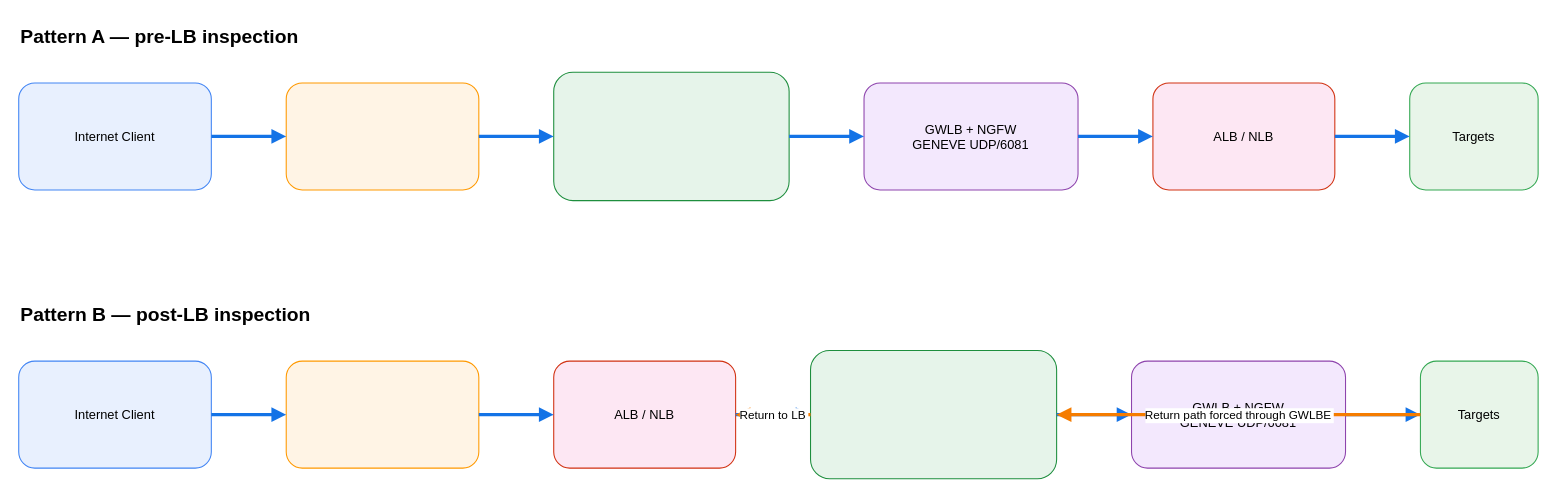
This 1557x498 diagram has some shape labels left out. Each missing label, with the box of its shape:
GWLBE LB subnet CIDR → vpce Original Internet tuple visible: (553, 71, 789, 201)
GWLBE LB subnet RT: target subnet → vpce Only LB-accepted flow inspected: (809, 349, 1057, 479)
Internet Gateway: (285, 360, 479, 468)
Internet Gateway Gateway RT: (285, 82, 479, 190)
